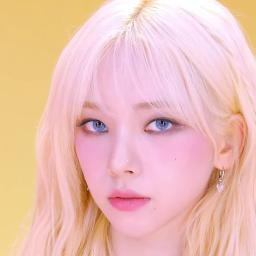face: (88, 56, 200, 234)
